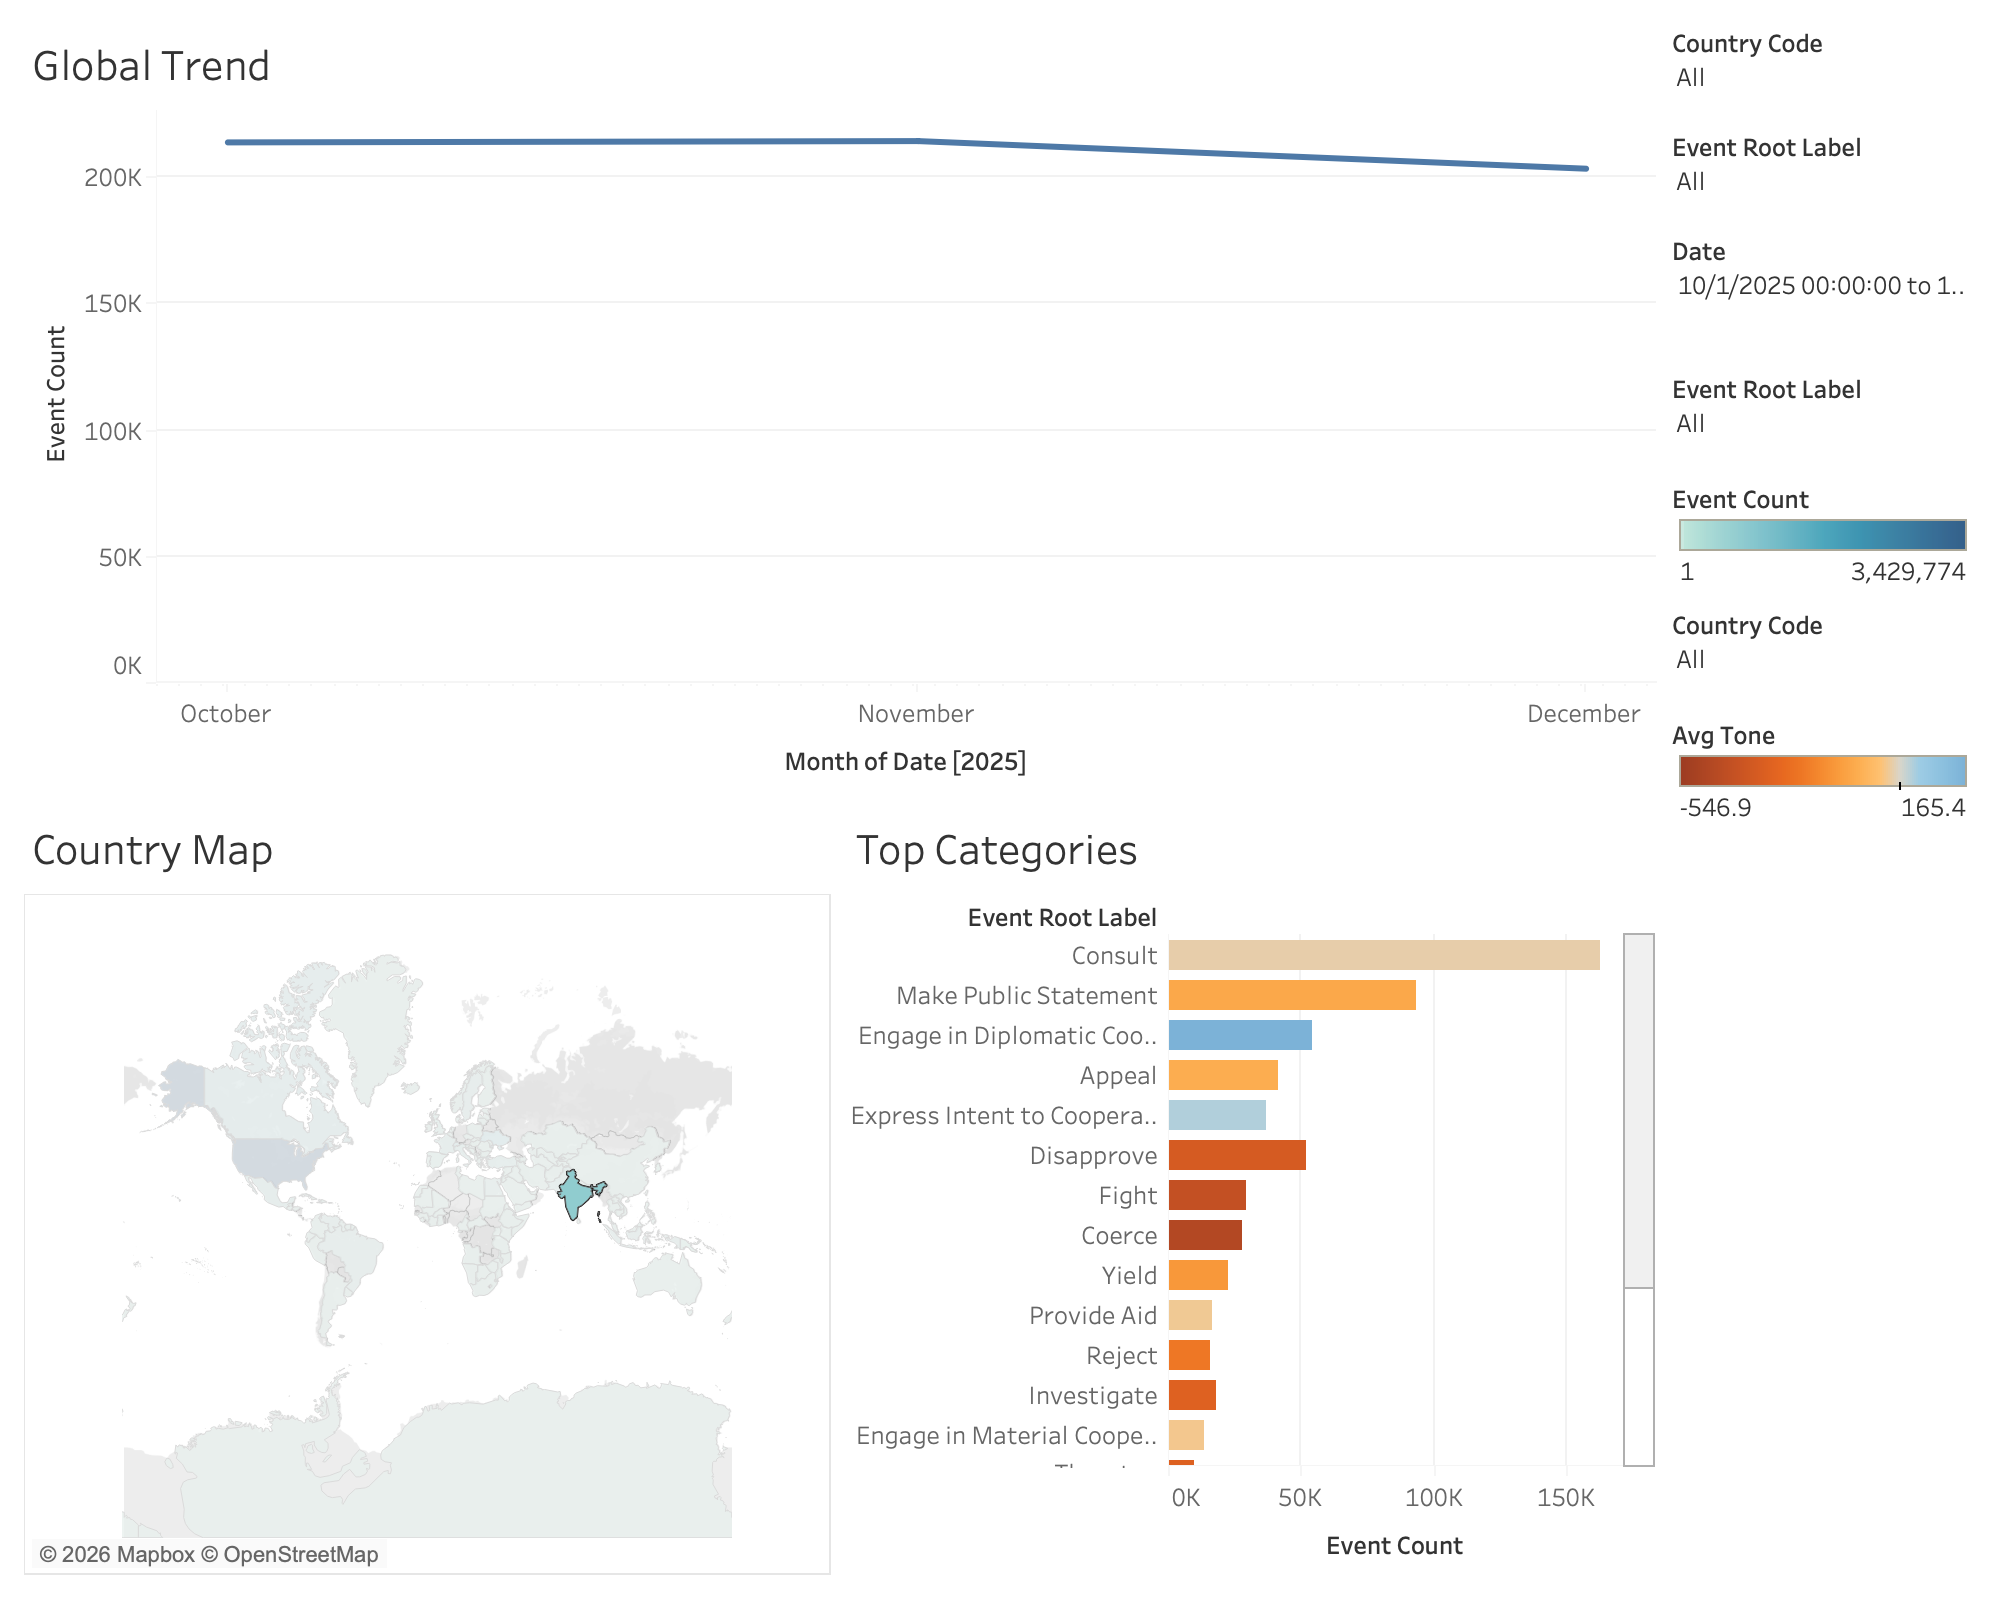

What the dashboard file says about the page in this screenshot:
{"tool":"tableau","page":{"name":"GDELT Global Pulse","canvas":[1000,800],"ordinal":0},"visuals":[{"type":"worksheet","title":"Global Trend","mark":"Line","rows":["EventCount"],"cols":["date"],"box":[8,8,824,392]},{"type":"filter","title":"Global Trend","param":"[federated.1y2b1y51vx533o1e295kl1ezo047].[none:CountryCode:nk]","box":[832,8,160,52]},{"type":"filter","title":"Global Trend","param":"[federated.1y2b1y51vx533o1e295kl1ezo047].[none:EventRootLabel:nk]","box":[832,60,160,52]},{"type":"filter","title":"Country Map","param":"[federated.1y2b1y51vx533o1e295kl1ezo047].[none:date:qk]","box":[832,112,160,69]},{"type":"filter","title":"Country Map","param":"[federated.1y2b1y51vx533o1e295kl1ezo047].[none:EventRootLabel:nk]","box":[832,181,160,52]},{"type":"legend","title":"Country Map","param":"[federated.1y2b1y51vx533o1e295kl1ezo047].[sum:EventCount:qk]","box":[832,233,160,65]},{"type":"filter","title":"Top Categories","param":"[federated.1y2b1y51vx533o1e295kl1ezo047].[none:CountryCode:nk]","box":[832,298,160,52]},{"type":"legend","title":"Top Categories","param":"[federated.1y2b1y51vx533o1e295kl1ezo047].[sum:AvgTone:qk]","box":[832,350,160,65]},{"type":"worksheet","title":"Country Map","mark":"Automatic","box":[8,400,412,392]},{"type":"worksheet","title":"Top Categories","mark":"Automatic","rows":["EventRootLabel"],"cols":["EventCount"],"box":[420,400,412,392]}]}

Visuals, with their boxes in screenshot pixels (x1, y1, x2, y2), scaled from the page's 1000x800 canvas onto the 2000x1600 screenshot:
"Global Trend" worksheet (Line marks): box=[16, 16, 1664, 800]
"Global Trend" filter: box=[1664, 16, 1984, 120]
"Global Trend" filter: box=[1664, 120, 1984, 224]
"Country Map" filter: box=[1664, 224, 1984, 362]
"Country Map" filter: box=[1664, 362, 1984, 466]
"Country Map" legend: box=[1664, 466, 1984, 596]
"Top Categories" filter: box=[1664, 596, 1984, 700]
"Top Categories" legend: box=[1664, 700, 1984, 830]
"Country Map" worksheet: box=[16, 800, 840, 1584]
"Top Categories" worksheet: box=[840, 800, 1664, 1584]
